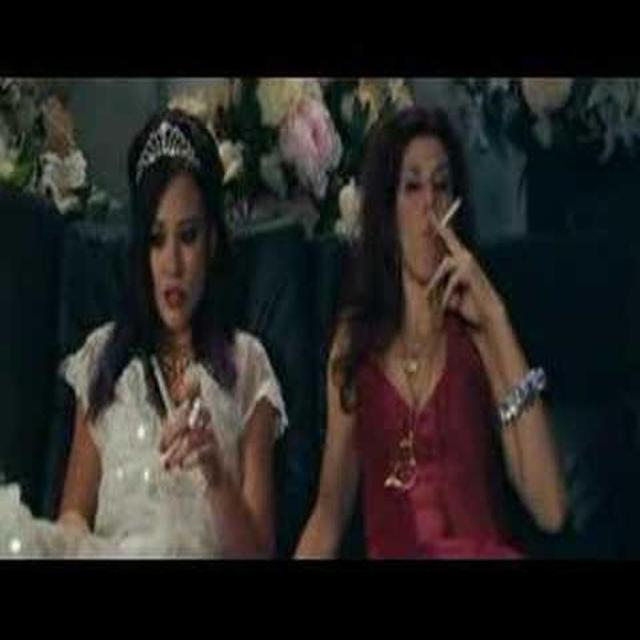smoking: (128, 112, 222, 460), (372, 114, 472, 320)
